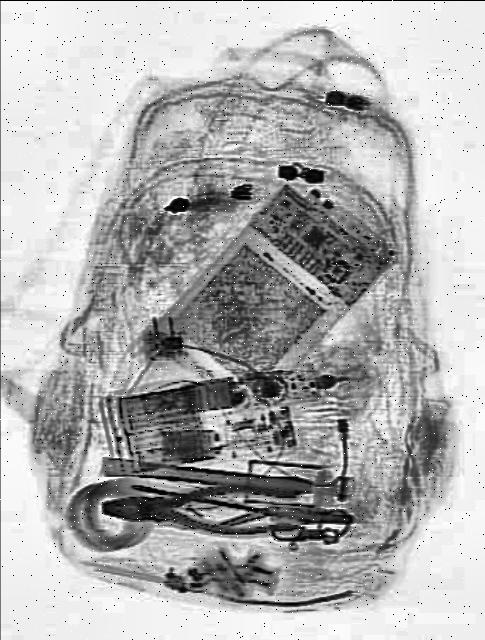Pliers: (100, 481, 296, 532)
